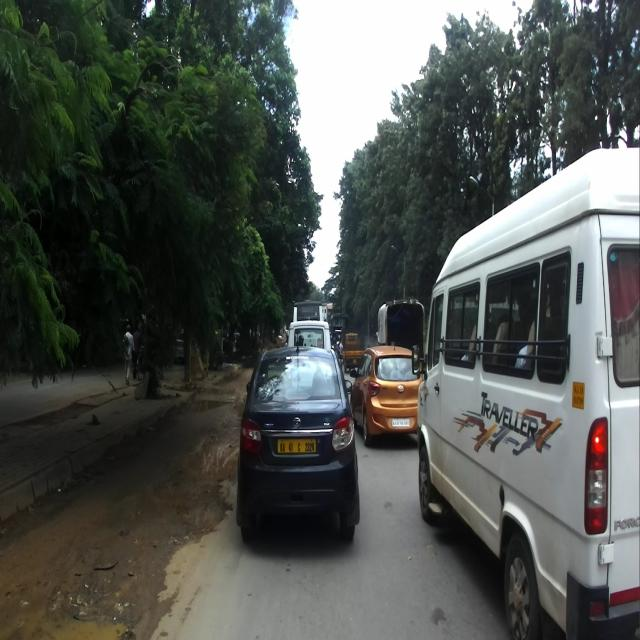Car_Hyundai: (350, 333, 423, 446)
Car_TATA: (236, 326, 360, 548)
mini-bus: (410, 146, 640, 640)
